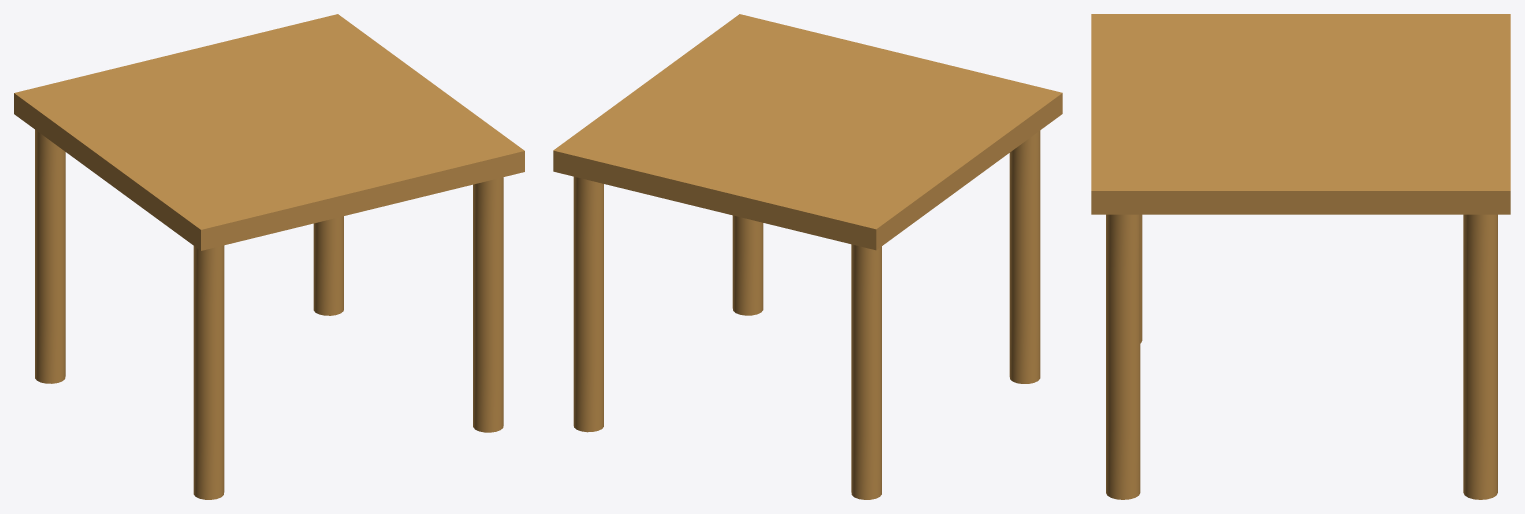
Rendered from Table.fbx.
The picture shows the model from 3 angles, left to right: view 1: azimuth 30°, elevation 25°; view 2: azimuth 150°, elevation 25°; view 3: azimuth 270°, elevation 25°; orthographic projection. The views are drawn at different scales.
Parts seen in each view (by area): view 1: Cube, Cylinder_2, Cylinder_3, Cylinder_1, Cylinder; view 2: Cube, Cylinder_1, Cylinder, Cylinder_2, Cylinder_3; view 3: Cube, Cylinder, Cylinder_3.
Part boxes in pixels (x1,y1,x2,y2): Cube: (14, 14, 524, 250); Cylinder_2: (193, 245, 224, 499); Cylinder_3: (473, 177, 503, 432); Cylinder_1: (35, 130, 65, 383); Cylinder: (313, 216, 343, 315); Cube: (553, 14, 1062, 250); Cylinder_1: (851, 244, 881, 499); Cylinder: (573, 176, 603, 432); Cylinder_2: (1009, 130, 1040, 383); Cylinder_3: (732, 215, 763, 315); Cube: (1091, 14, 1510, 214); Cylinder: (1463, 214, 1497, 499); Cylinder_3: (1106, 214, 1140, 499).
Size of the model in its own units: 200 by 165 by 200.
